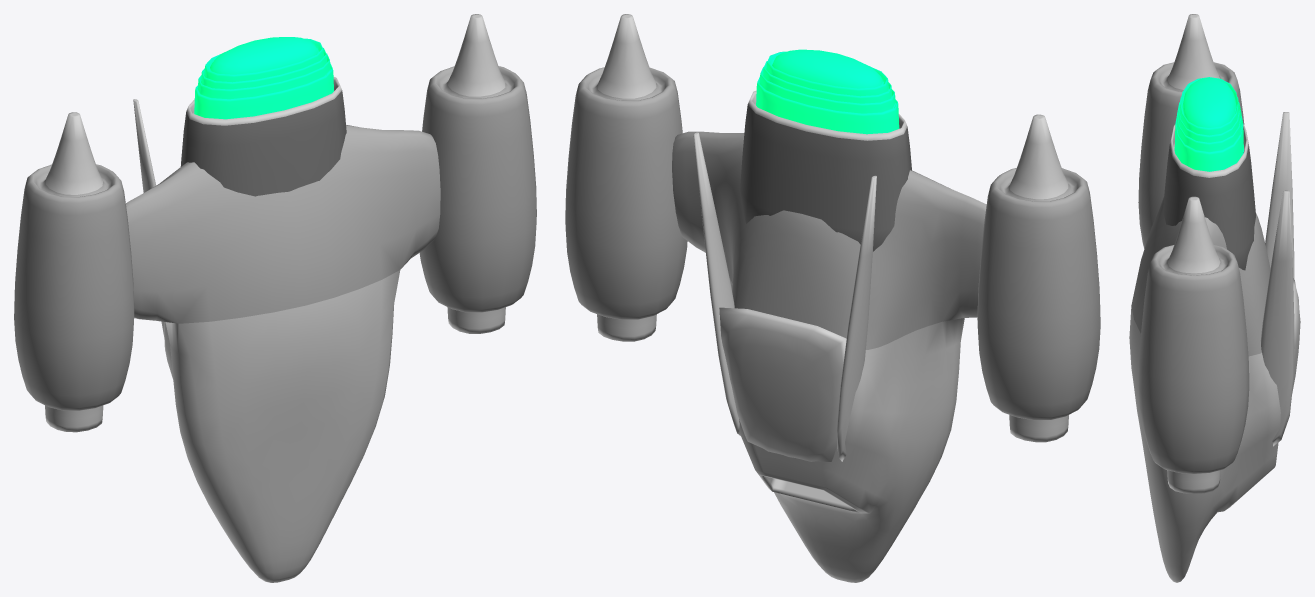
Rendered from spaceship.fbx.
3 renders of one model, left to right at view 1: azimuth 30°, elevation 25°; view 2: azimuth 150°, elevation 25°; view 3: azimuth 270°, elevation 25°, orthographic. The views are drawn at different scales.
Visible parts, largest first — view 1: Cube; view 2: Cube; view 3: Cube.
Part boxes in pixels (bbox=[...]): Cube: bbox=[14, 14, 536, 582]; Cube: bbox=[565, 14, 1100, 582]; Cube: bbox=[1129, 14, 1300, 582].
Bounding box in the file's own units: 8.42 × 8.33 × 2.65.
